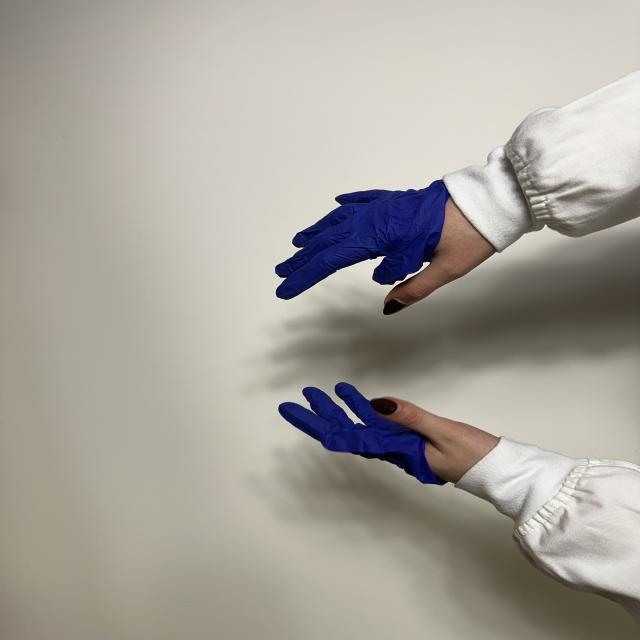glove_partial: (276, 181, 496, 314), (278, 383, 499, 484)
